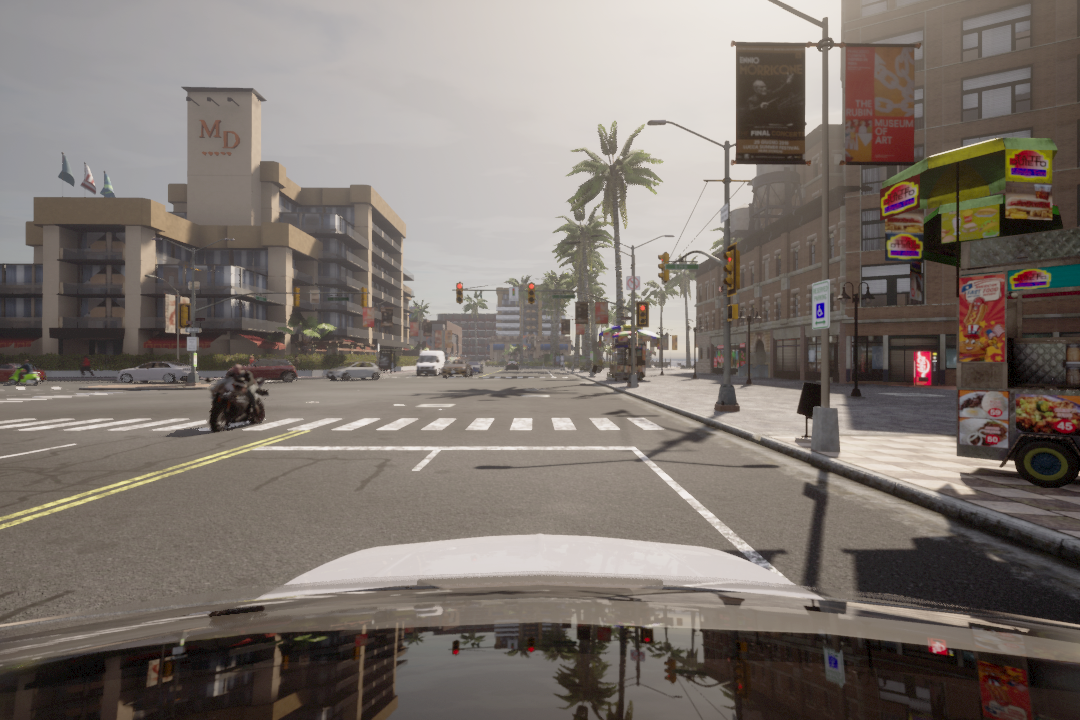TrafficLight: (724, 246, 741, 294), (657, 253, 676, 287), (525, 280, 538, 308), (636, 303, 651, 327), (454, 281, 464, 304)
TrafficSign: (627, 275, 643, 293)
walkside: (3, 411, 707, 443)
